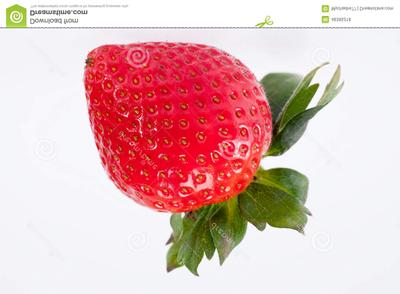strawberry: (0, 0, 400, 294)
